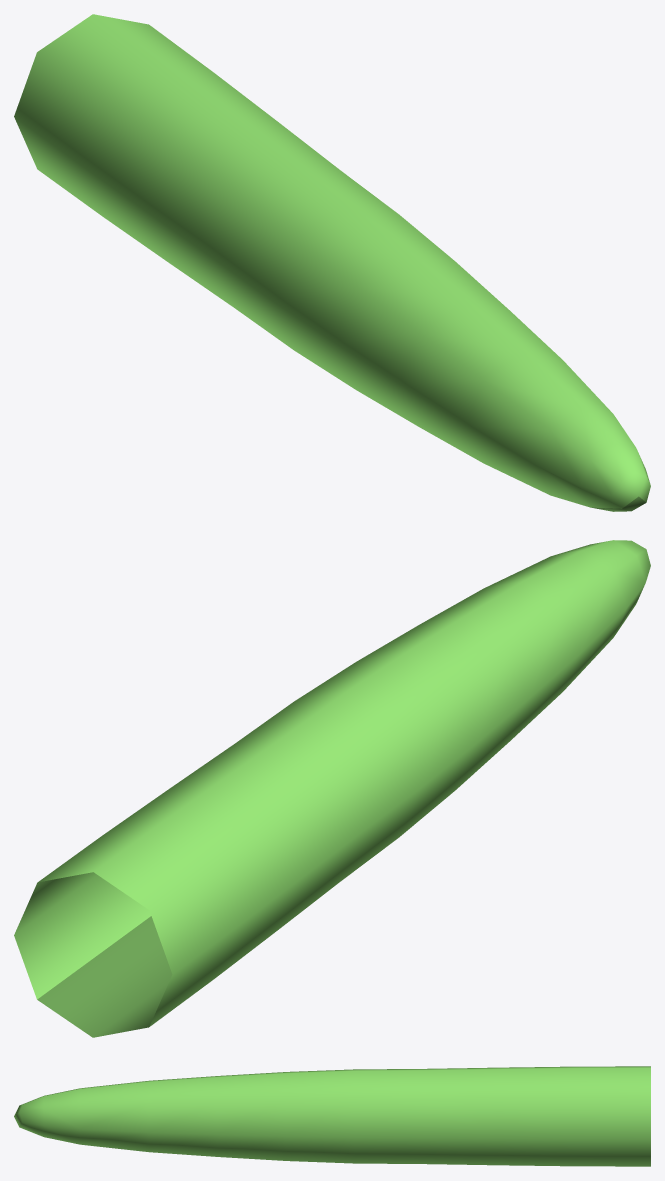
The model's file is Kraken2.fbx.
The picture shows the model from 3 angles, top to bottom: view 1: azimuth 30°, elevation 25°; view 2: azimuth 150°, elevation 25°; view 3: azimuth 270°, elevation 25°; orthographic projection. The views are drawn at different scales.
Parts seen in each view (by area): view 1: Tentacle.005; view 2: Tentacle.005; view 3: Tentacle.005.
Boxes of the visible parts, x1,y1,x2,y2 form: Tentacle.005: (14,14,650,511); Tentacle.005: (14,540,650,1037); Tentacle.005: (14,1066,650,1166).
Bounding box in the file's own units: 0.5519 × 0.5519 × 3.29.
